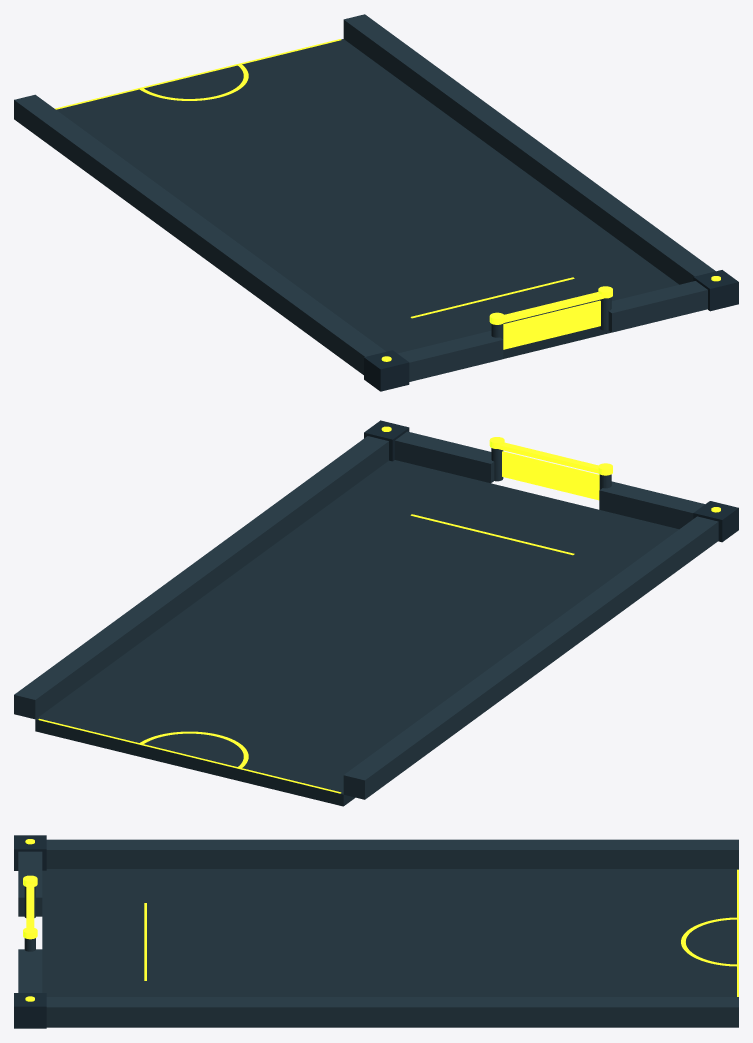
Rendered from mesa_tokamak_reactor_half_p1.glb.
The picture shows the model from 3 angles, top to bottom: view 1: azimuth 30°, elevation 25°; view 2: azimuth 150°, elevation 25°; view 3: azimuth 270°, elevation 25°; orthographic projection. The views are drawn at different scales.
Parts seen in each view (by area): view 1: TokamakHalfP1_Surface, TokamakHalfP1_RailL, TokamakHalfP1_RailR, Cube.004, Cube.002, Cube.009, Cube.006, Cube.007, Cube.008, TokamakHalfP1_TopEdgeLaser; view 2: TokamakHalfP1_Surface, TokamakHalfP1_RailL, TokamakHalfP1_RailR, Cube.004, Cube.002, Cube.009, Cube.006, Cube.008, Cube.007, TokamakHalfP1_TopEdgeLaser; view 3: TokamakHalfP1_Surface, TokamakHalfP1_RailL, TokamakHalfP1_RailR, Cube.002, Cube.007, Cube.004, Cube.006, TokamakHalfP1_CenterArcOuter, Cube.008.
Part boxes in pixels (bbox=[...]): TokamakHalfP1_Surface: bbox=[56, 39, 678, 358]; TokamakHalfP1_RailL: bbox=[14, 94, 385, 374]; TokamakHalfP1_RailR: bbox=[343, 14, 715, 284]; Cube.004: bbox=[608, 281, 707, 332]; Cube.002: bbox=[397, 331, 503, 381]; Cube.009: bbox=[503, 300, 600, 349]; Cube.006: bbox=[364, 350, 409, 391]; Cube.007: bbox=[693, 270, 738, 311]; Cube.008: bbox=[504, 292, 603, 322]; TokamakHalfP1_TopEdgeLaser: bbox=[55, 39, 341, 109]; TokamakHalfP1_Surface: bbox=[35, 460, 678, 806]; TokamakHalfP1_RailL: bbox=[343, 516, 718, 799]; TokamakHalfP1_RailR: bbox=[14, 436, 388, 719]; Cube.004: bbox=[395, 431, 494, 483]; Cube.002: bbox=[599, 481, 704, 529]; Cube.009: bbox=[502, 451, 599, 500]; Cube.006: bbox=[693, 501, 738, 542]; Cube.008: bbox=[499, 442, 598, 473]; Cube.007: bbox=[364, 420, 409, 461]; TokamakHalfP1_TopEdgeLaser: bbox=[38, 718, 341, 793]; TokamakHalfP1_Surface: bbox=[42, 869, 738, 1027]; TokamakHalfP1_RailL: bbox=[46, 839, 738, 868]; TokamakHalfP1_RailR: bbox=[46, 997, 738, 1026]; Cube.002: bbox=[18, 851, 42, 916]; Cube.007: bbox=[14, 993, 46, 1028]; Cube.004: bbox=[18, 949, 42, 992]; Cube.006: bbox=[14, 835, 46, 870]; TokamakHalfP1_CenterArcOuter: bbox=[681, 917, 736, 966]; Cube.008: bbox=[26, 884, 34, 927].
Bounding box in the file's own units: 1.26 × 0.17 × 2.25.
